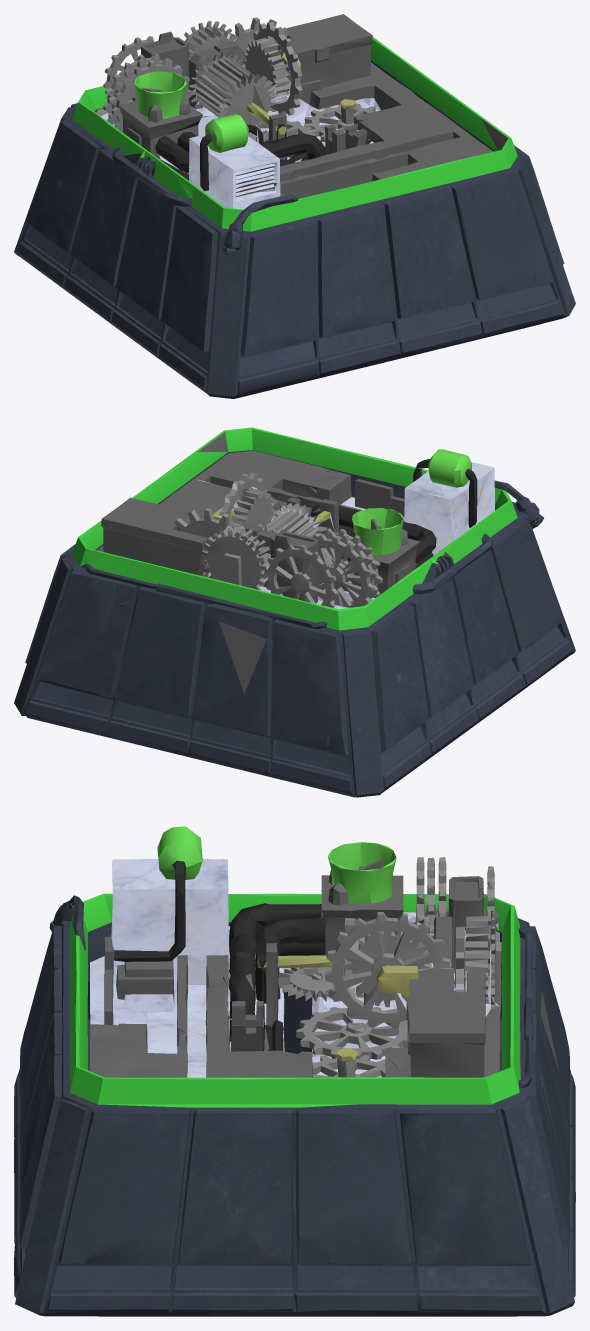
Rendered from assembleur.glb.
The picture shows the model from 3 angles, top to bottom: view 1: azimuth 30°, elevation 25°; view 2: azimuth 150°, elevation 25°; view 3: azimuth 270°, elevation 25°; orthographic projection. The views are drawn at different scales.
Parts seen in each view (by area): view 1: machineexport; view 2: machineexport; view 3: machineexport.
Part boxes in pixels (<box>): machineexport: <box>14,14,575,398</box>; machineexport: <box>14,427,575,797</box>; machineexport: <box>14,826,575,1316</box>.
Bounding box in the file's own units: 1.4 × 0.822 × 1.4.
8 materials, 2 textured.
